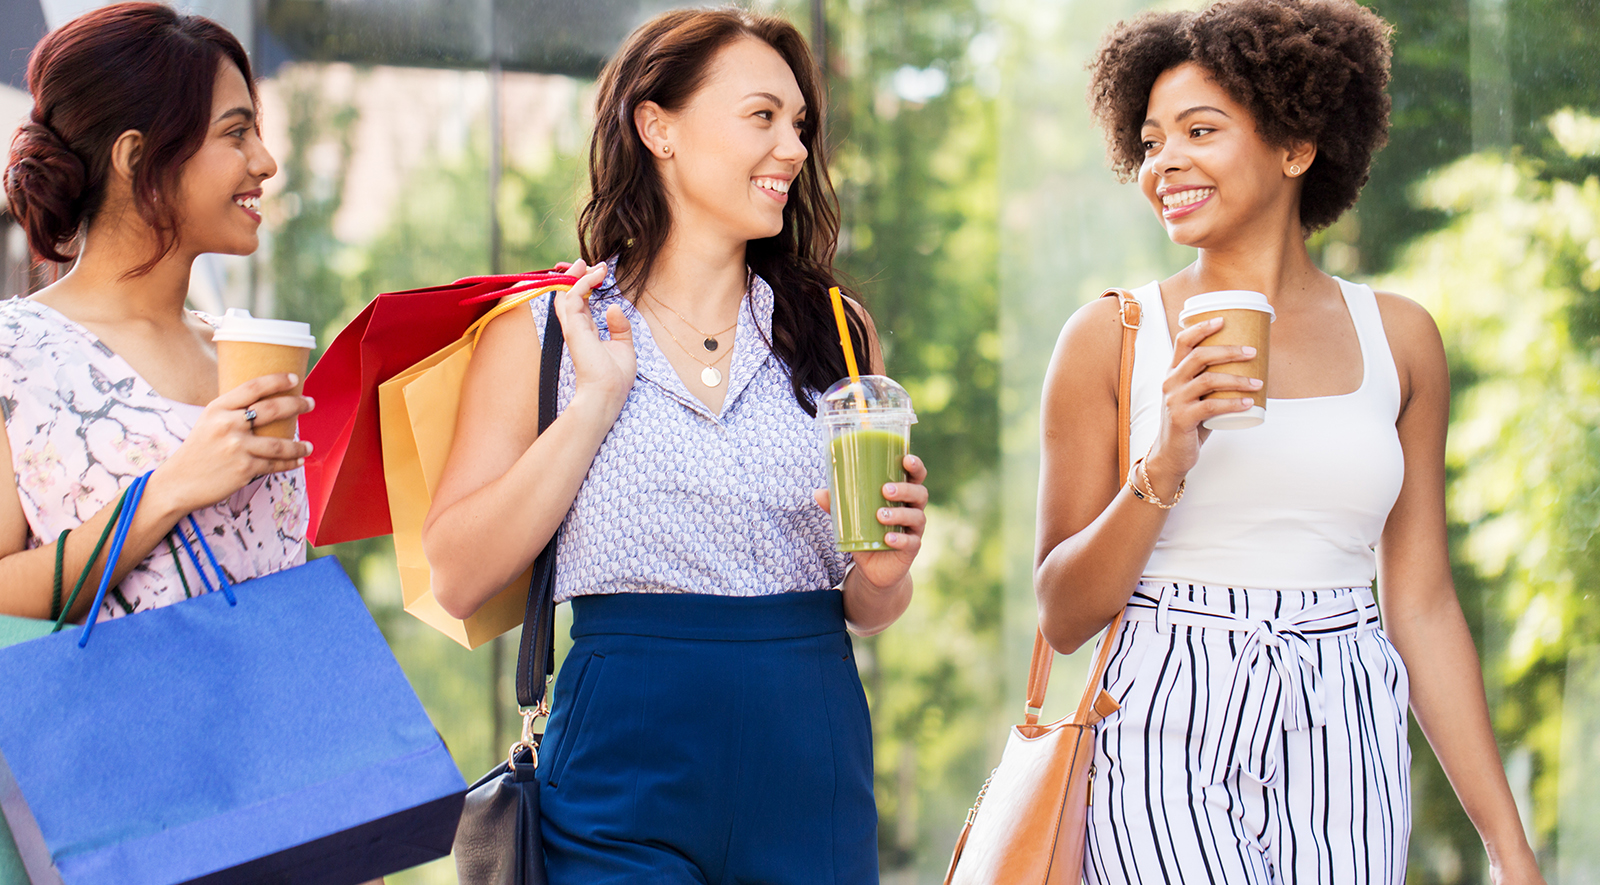Person: (436, 7, 945, 885), (1036, 12, 1534, 885), (1, 1, 344, 621)
